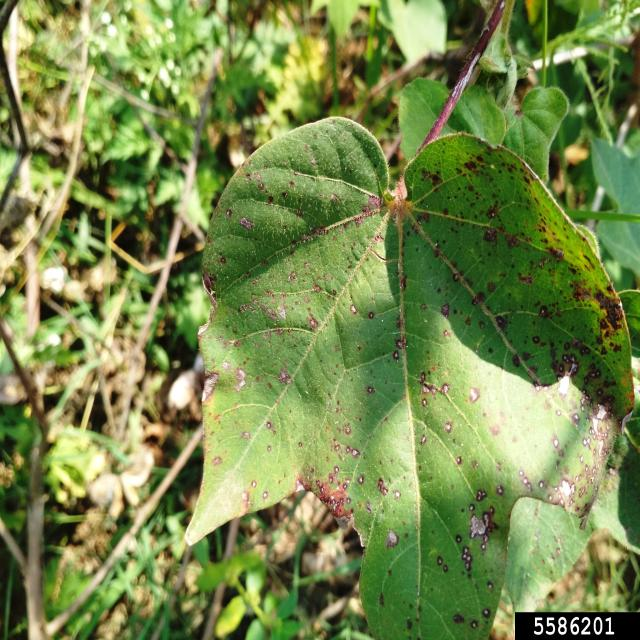Bacterial Blight: (433, 171, 622, 519), (259, 394, 393, 526)
